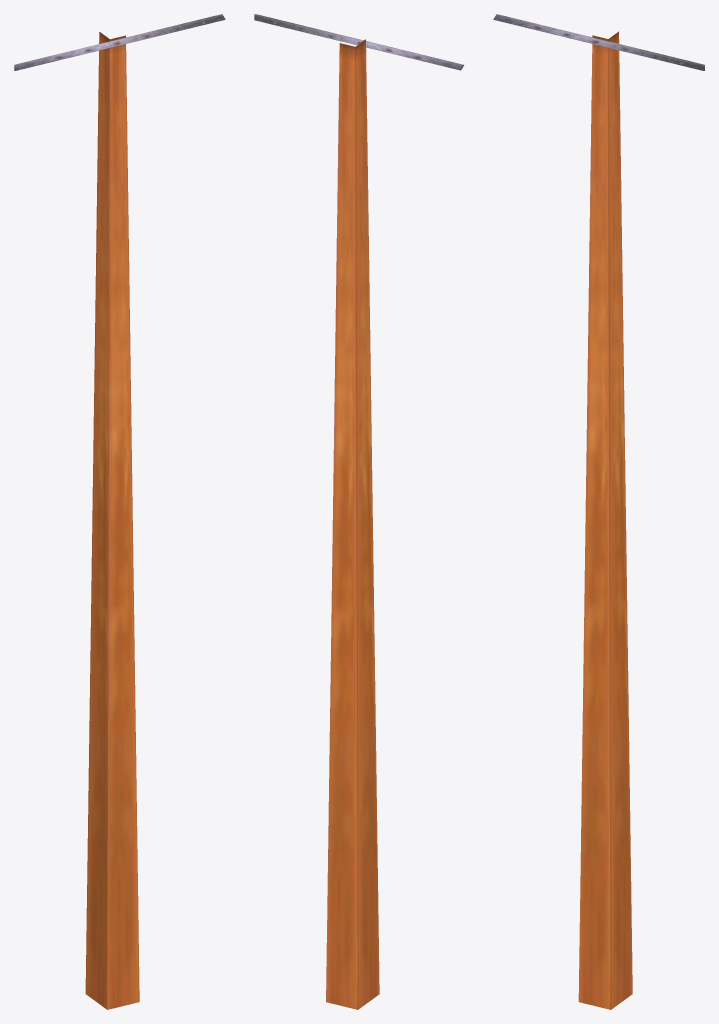
Rendered from tree24.glb.
3 renders of one model, left to right at view 1: azimuth 30°, elevation 25°; view 2: azimuth 150°, elevation 25°; view 3: azimuth 330°, elevation 25°, orthographic.
Visible parts, largest first — view 1: tree24; view 2: tree24; view 3: tree24.
Boxes of the visible parts, x1,y1,x2,y2 form: tree24: (14, 14, 225, 1009); tree24: (254, 14, 464, 1009); tree24: (493, 14, 704, 1009).
Size of the model in its own units: 280 by 1242 by 50.76.
Materials: 1 (1 with a texture image).
